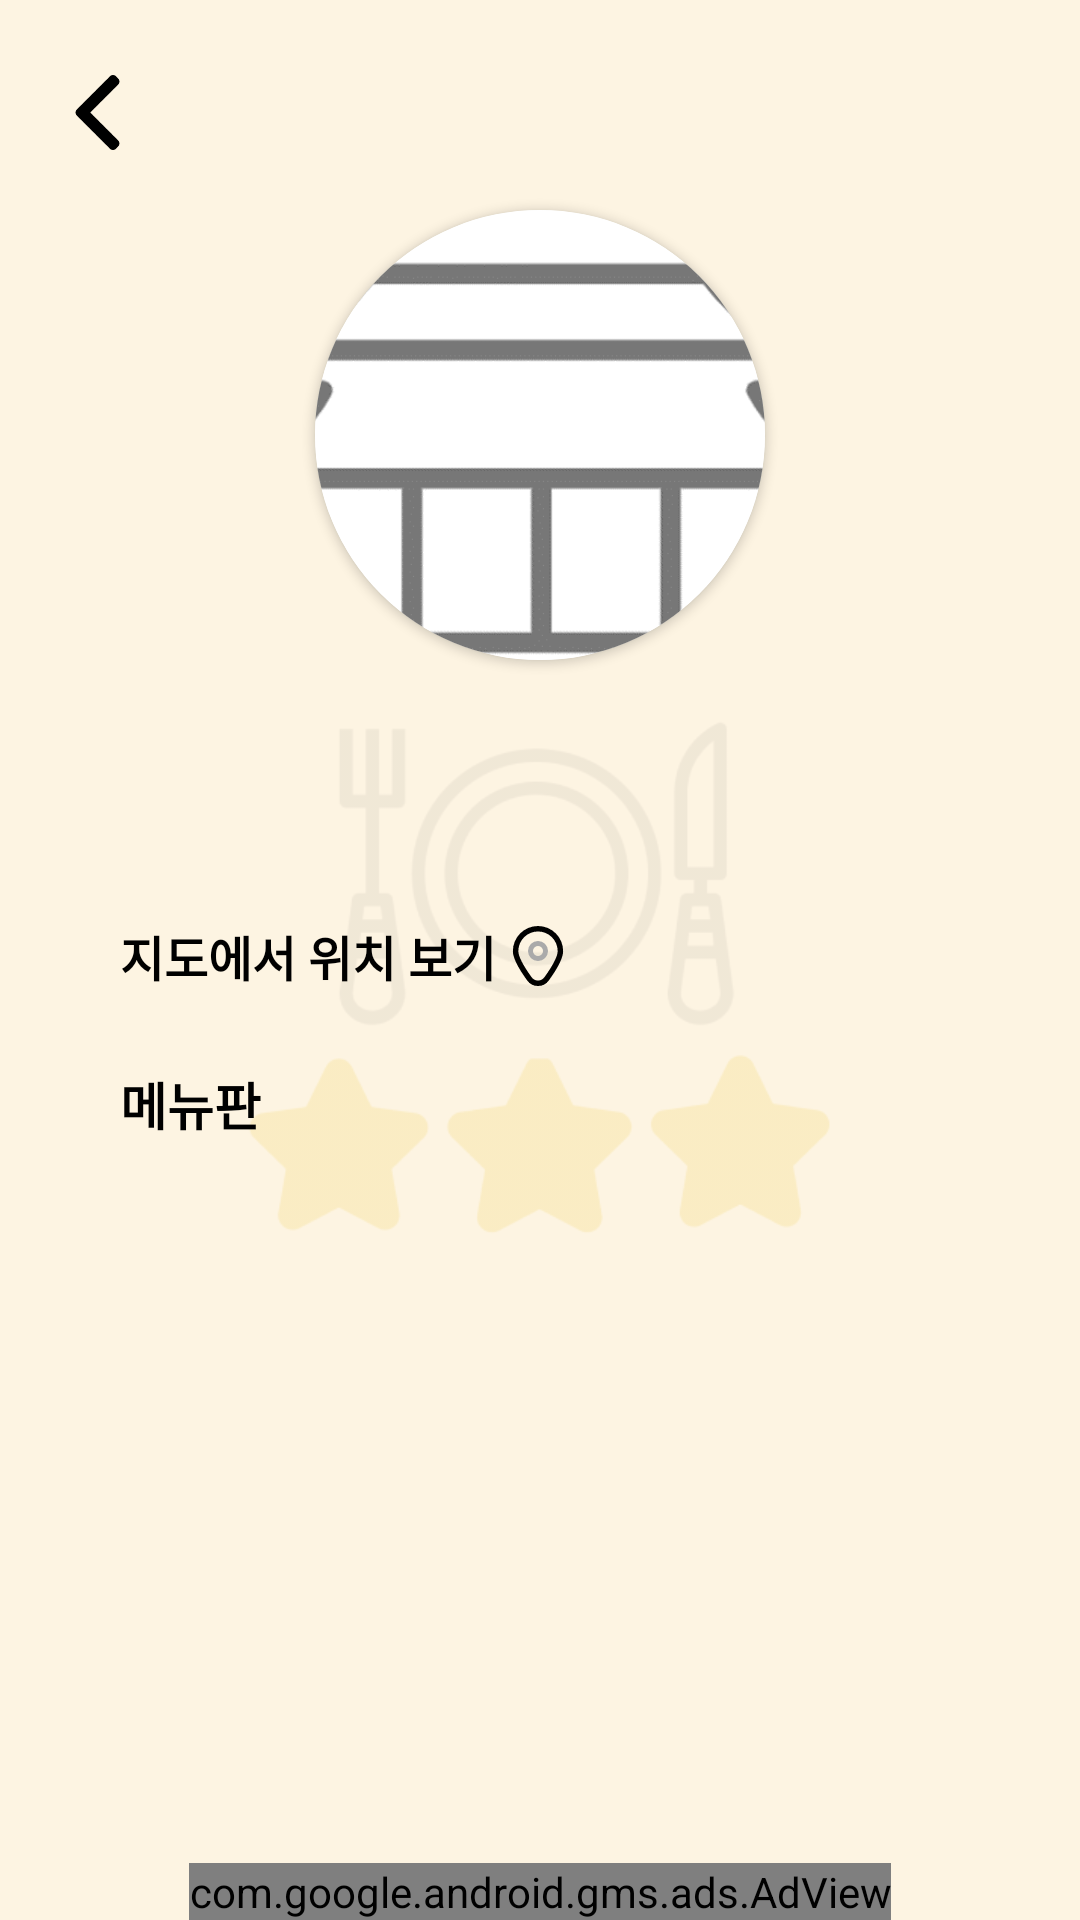

Point at icon controls on the screen. Image size 1080px×1920px, points as (x=x, y=y).
left arrow: (x=97, y=112)
marker: (x=538, y=956)
